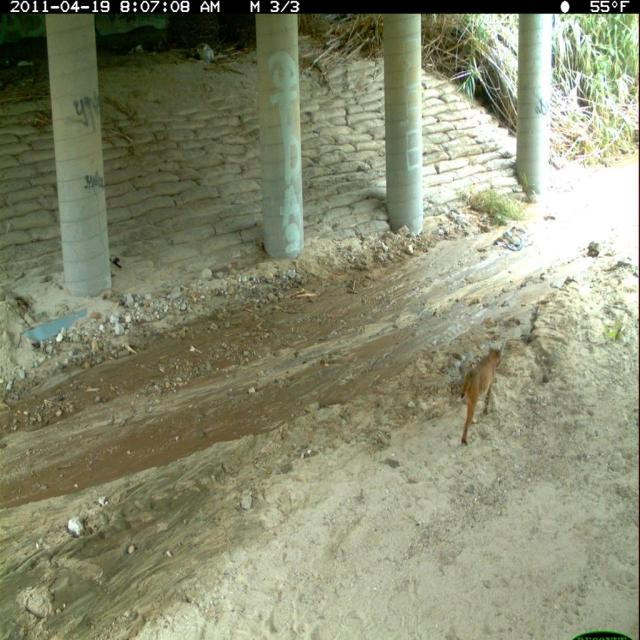bobcat: (457, 342, 508, 451)
